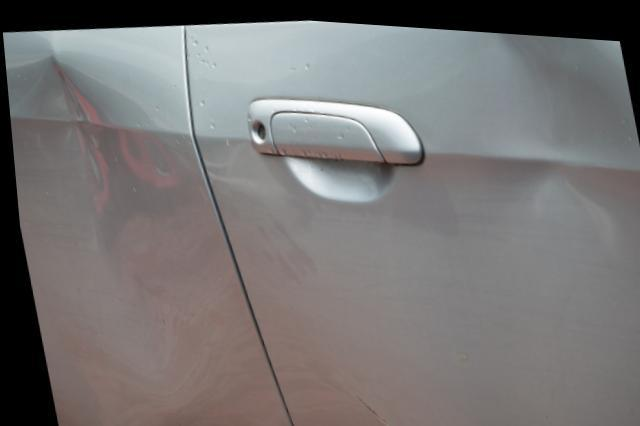crack: (346, 389, 389, 426)
dent: (5, 55, 224, 426), (467, 25, 640, 249)
